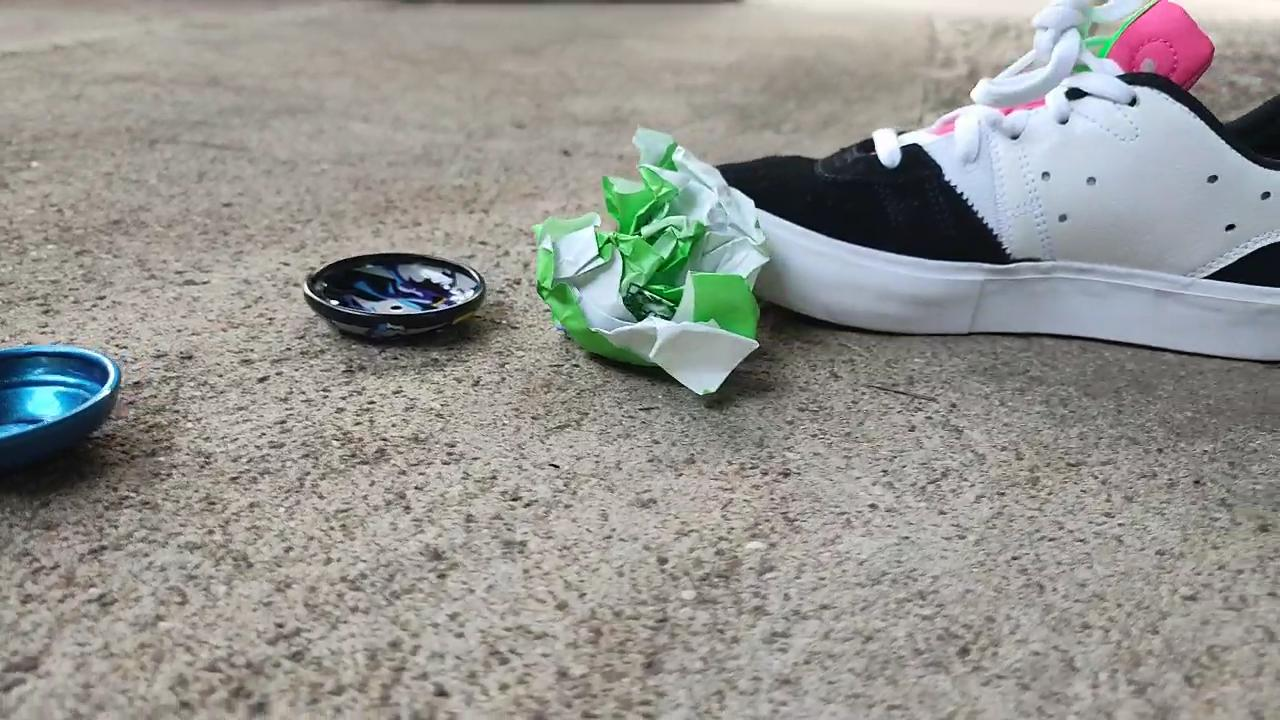Paper: (521, 110, 788, 418)
